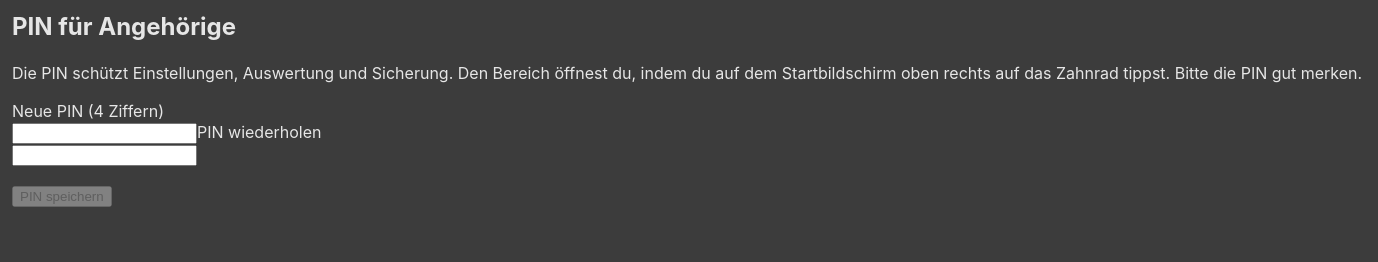
Test: PinStep › scheitert das Hashen: Hinweis, Knopf wieder frei, neuer Versuch klappt
Later steps or results of the test are not shown.
Step 1. Type "4321" into the password field labelled "Neue PIN (4 Ziffern)" → (104, 134), box [12,123,197,144]
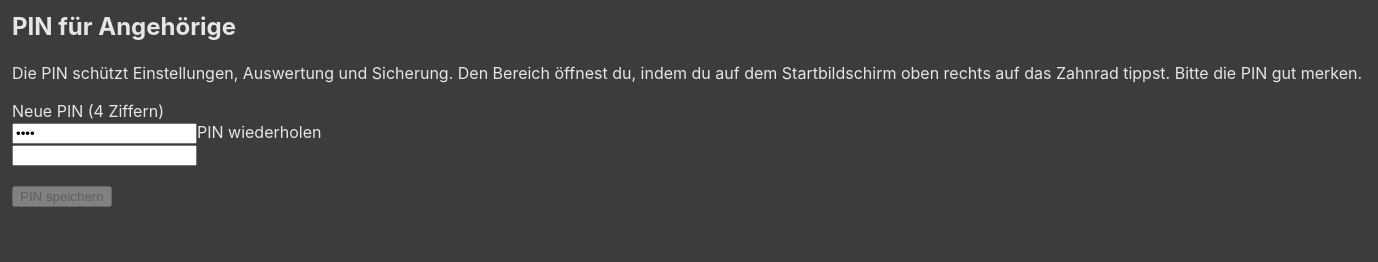
Step 2. Type "4321" into the password field labelled "PIN wiederholen" → (104, 156), box [12,145,197,166]
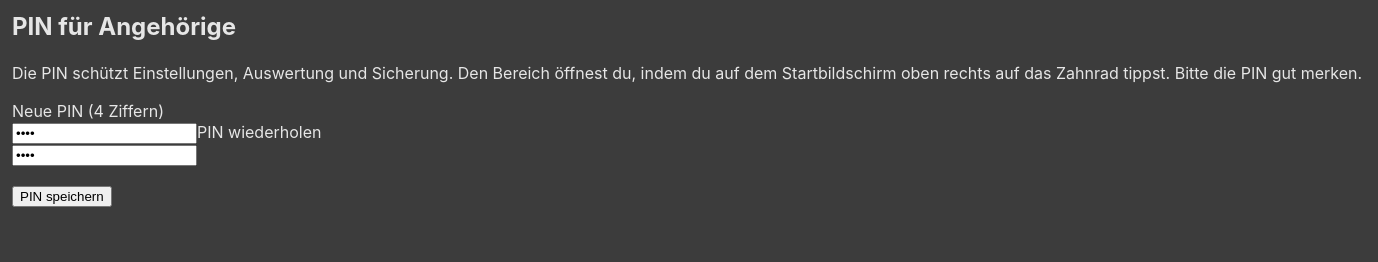
Step 3. Click the button "PIN speichern" → (62, 197), box [12,186,112,207]
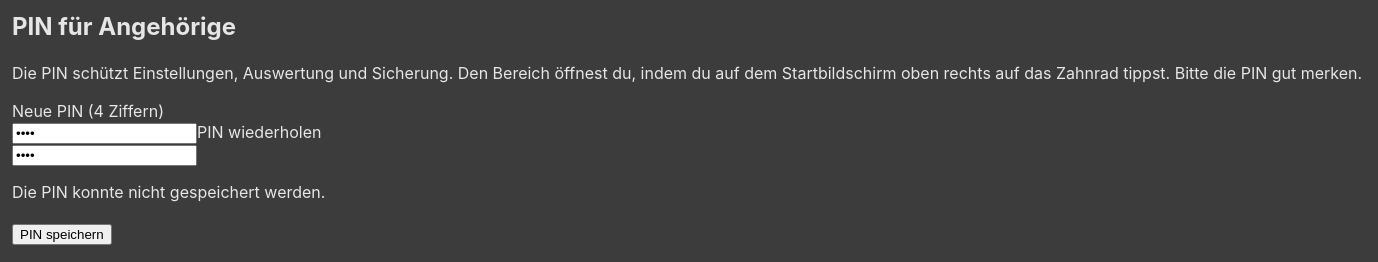
Check: the button "PIN speichern" is enabled, box [12,224,112,245]
Check: the text "Die PIN konnte nicht gespeichert werden." is shown, box [12,182,325,202]
